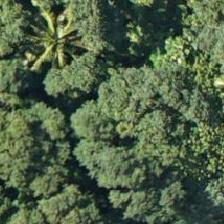coconut_tree: (9, 0, 99, 88)
